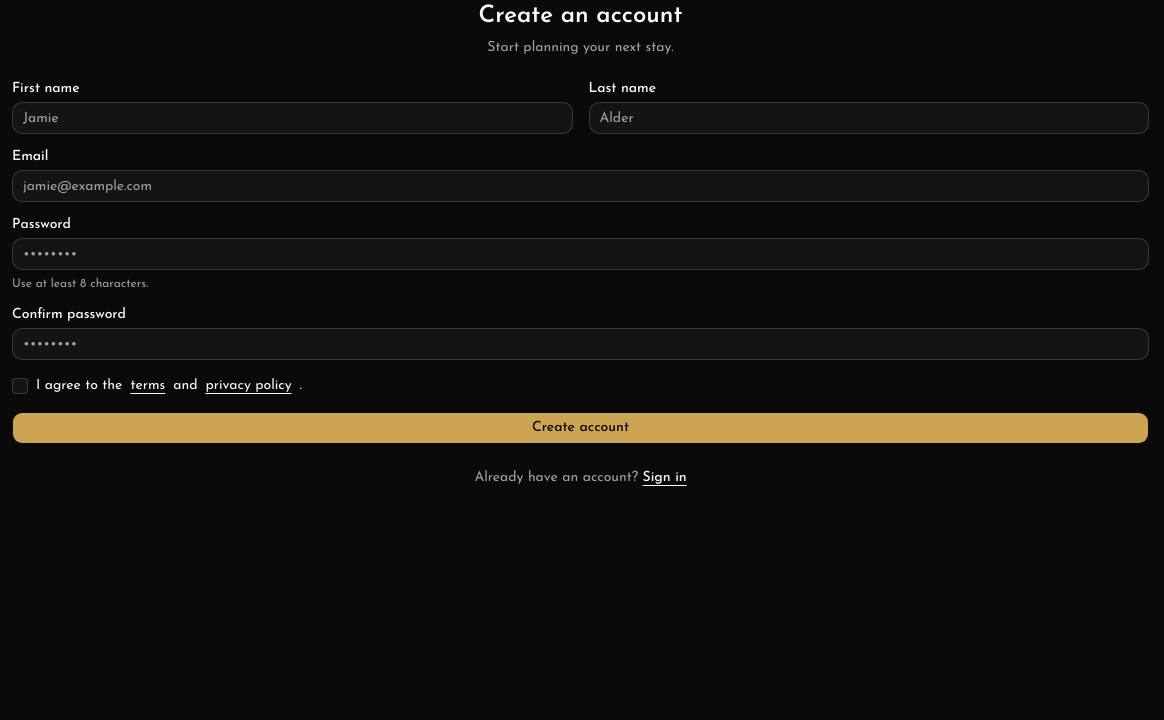
SignUpScreen › shows the terms checkbox's own inline error only once touched
The width and height of the screenshot is (1164, 720).
Expected: the text "You must accept the terms to continue." is not shown
Click the 1st checkbox: (20,386) [12,378,28,394]
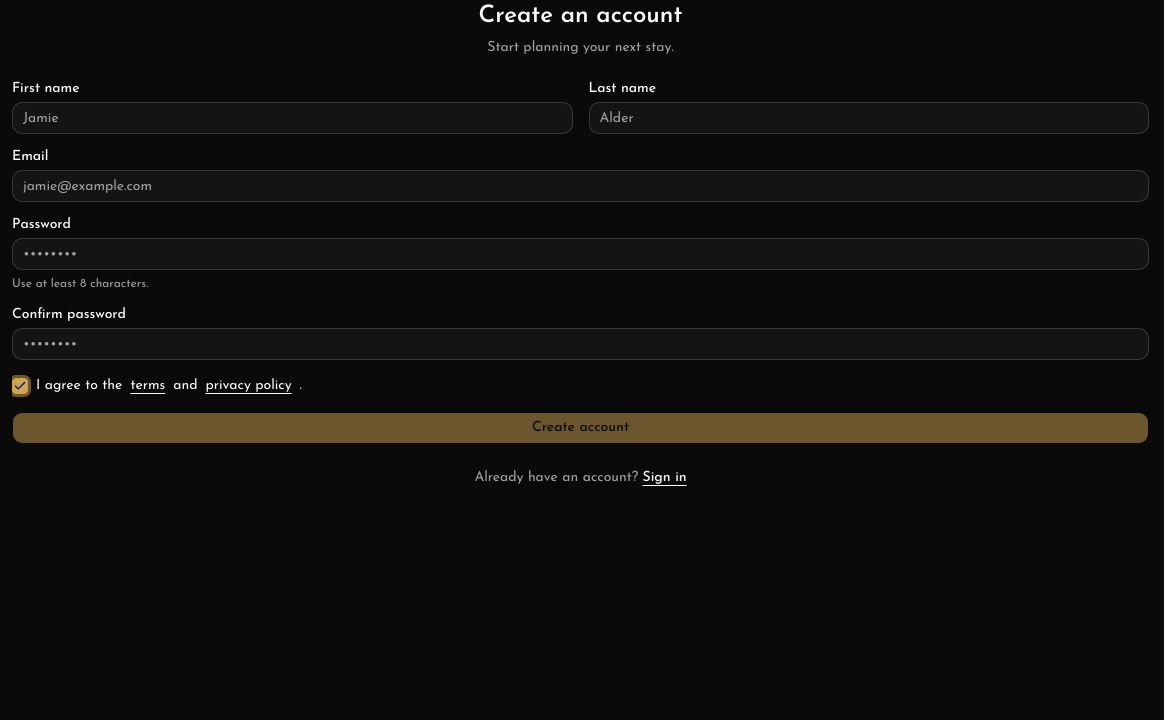
Click the 1st checkbox: (20,386) [12,378,28,394]
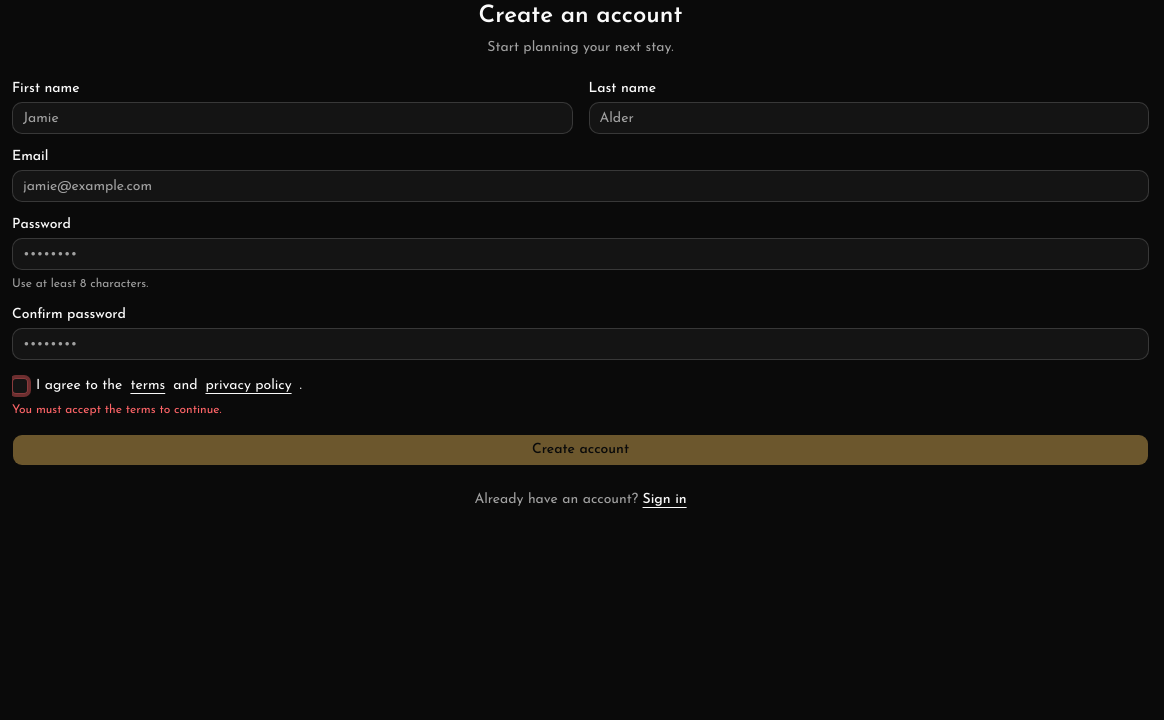
Now the text "You must accept the terms to continue." is shown, box [12,404,222,416]
